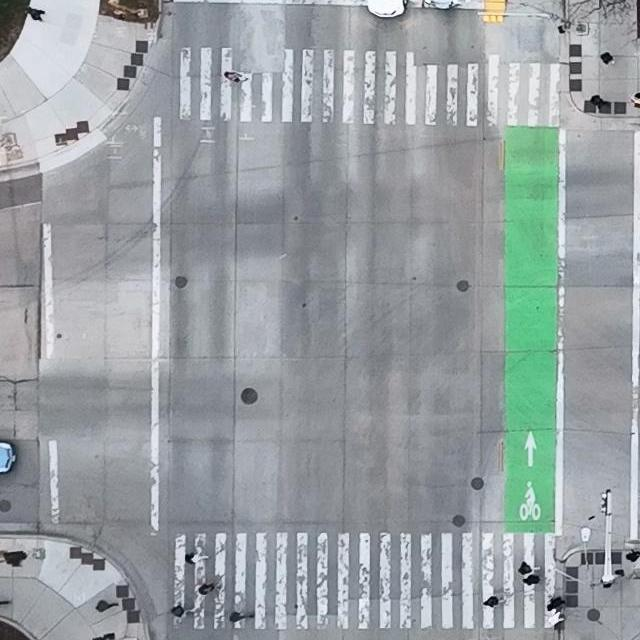car: (366, 0, 406, 17)
